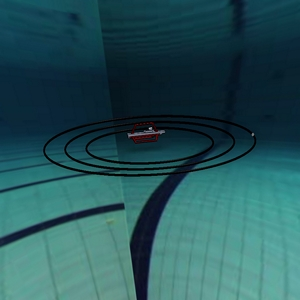circle: (30, 97, 271, 189)
submarine: (124, 118, 173, 149)
